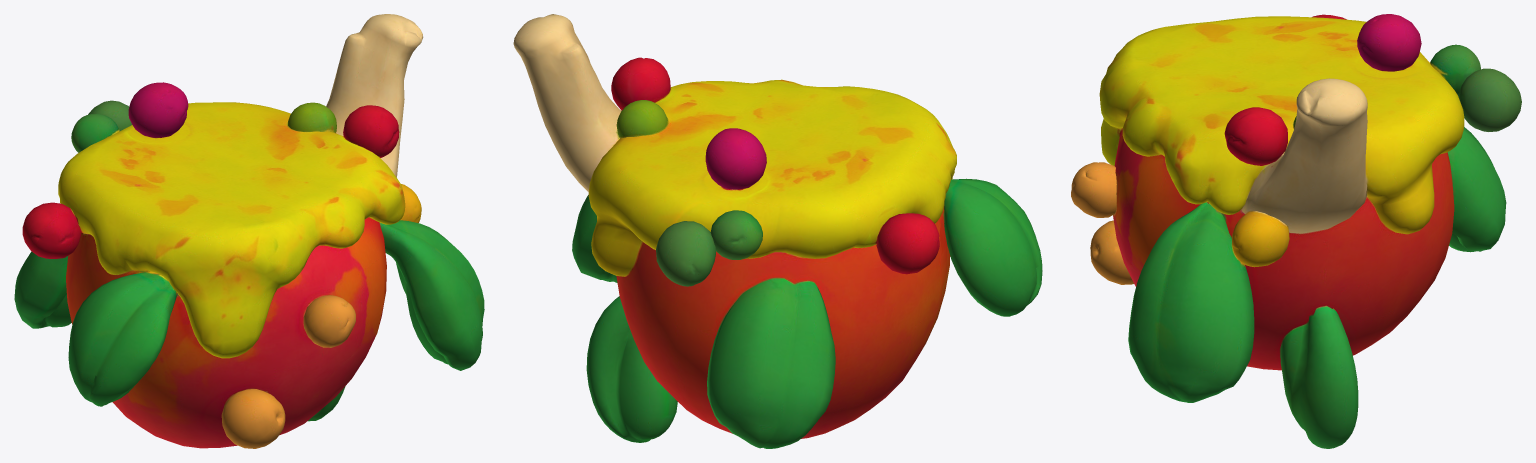
File: dream-fruit.glb
3 views of the same model, side by side, from view 1: azimuth 30°, elevation 25°; view 2: azimuth 150°, elevation 25°; view 3: azimuth 270°, elevation 25° (orthographic). The views are drawn at different scales.
Visible parts, largest first — view 1: tripo_node_57e29086-8acd-4d32-b69e-11c59e95a1f0; view 2: tripo_node_57e29086-8acd-4d32-b69e-11c59e95a1f0; view 3: tripo_node_57e29086-8acd-4d32-b69e-11c59e95a1f0.
Part boxes in pixels (<box>): tripo_node_57e29086-8acd-4d32-b69e-11c59e95a1f0: <box>14,14,484,448</box>; tripo_node_57e29086-8acd-4d32-b69e-11c59e95a1f0: <box>513,14,1042,448</box>; tripo_node_57e29086-8acd-4d32-b69e-11c59e95a1f0: <box>1071,14,1521,448</box>.
Size of the model in its own units: 0.9995 by 0.8804 by 0.8843.
1 material, 1 textured.
